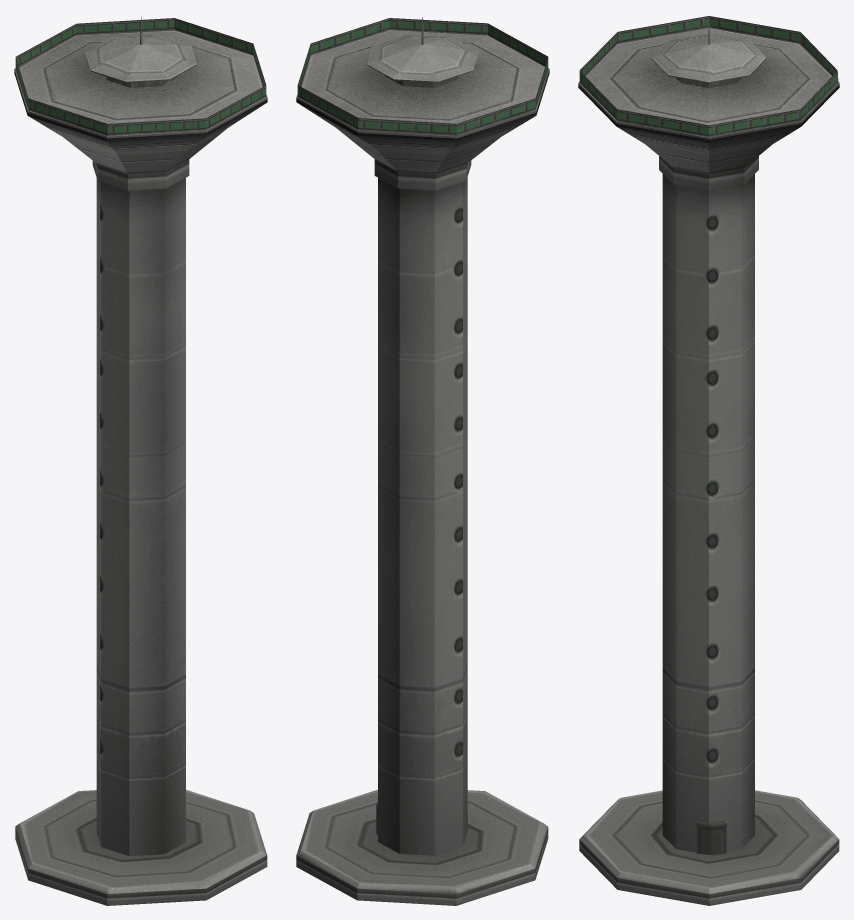
File: tower_02.obj
3 renders of one model, left to right at view 1: azimuth 30°, elevation 25°; view 2: azimuth 150°, elevation 25°; view 3: azimuth 270°, elevation 25°, orthographic.
Parts seen in each view (by area): view 1: Box001; view 2: Box001; view 3: Box001.
Boxes of the visible parts, x1,y1,x2,y2 form: Box001: [14, 16, 267, 905]; Box001: [296, 17, 549, 905]; Box001: [578, 16, 839, 905].
Size of the model in its own units: 28.16 by 99.55 by 28.16.
